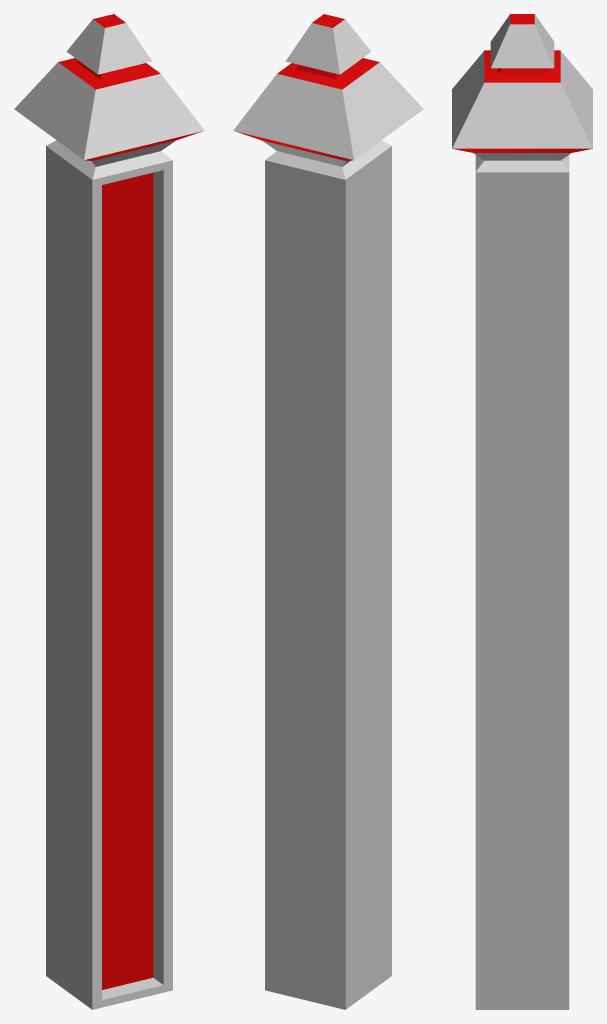
Rendered from wall_connect.fbx.
3 renders of one model, left to right at view 1: azimuth 30°, elevation 25°; view 2: azimuth 150°, elevation 25°; view 3: azimuth 270°, elevation 25°, orthographic.
Parts seen in each view (by area): view 1: wall_connect; view 2: wall_connect; view 3: wall_connect.
Boxes of the visible parts, <box> form: wall_connect: <box>14,14,204,1009</box>; wall_connect: <box>233,14,423,1009</box>; wall_connect: <box>452,14,592,1009</box>.
Bounding box in the file's own units: 5.93 × 45.07 × 5.93.
